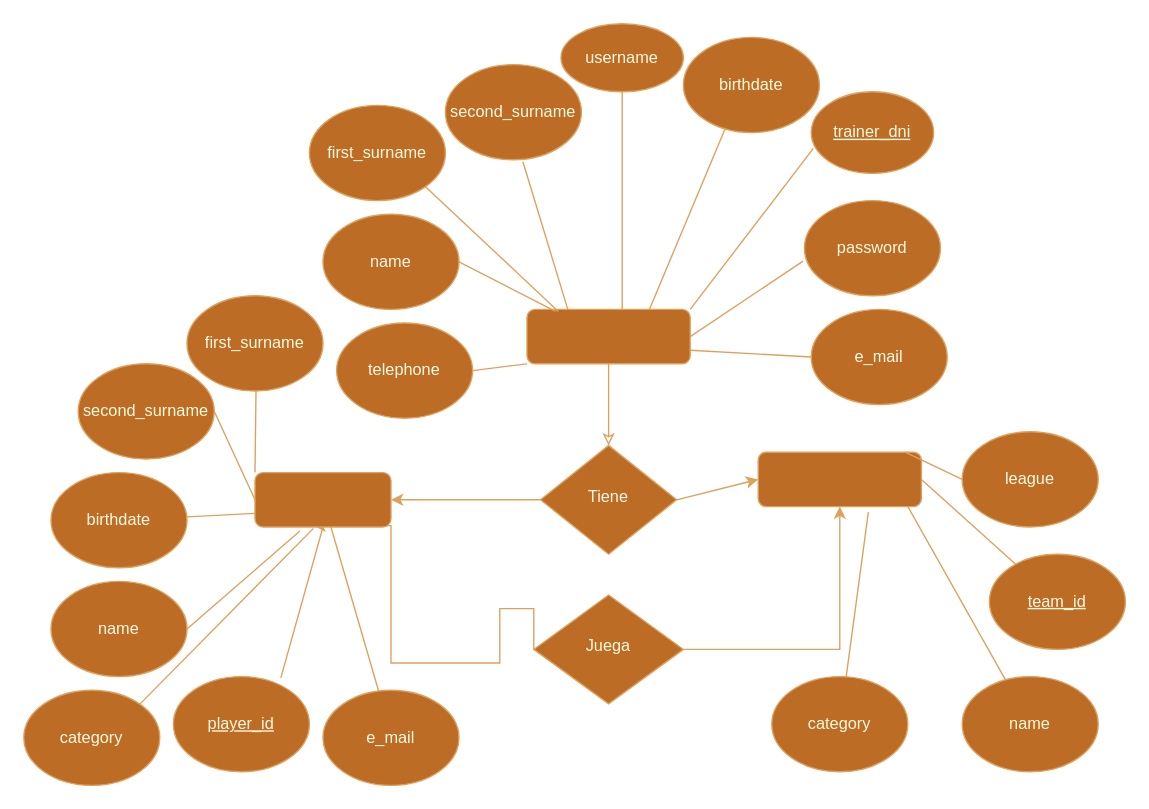
Some shapes in this 1149 by 809 pixel diagram are drawn without their labels. The centre of each missing label's shape, as x and y in pixels:
"Entrenador" belongs at [608,336].
"Equipo" belongs at [839,479].
"Jugador" belongs at [322,499].
